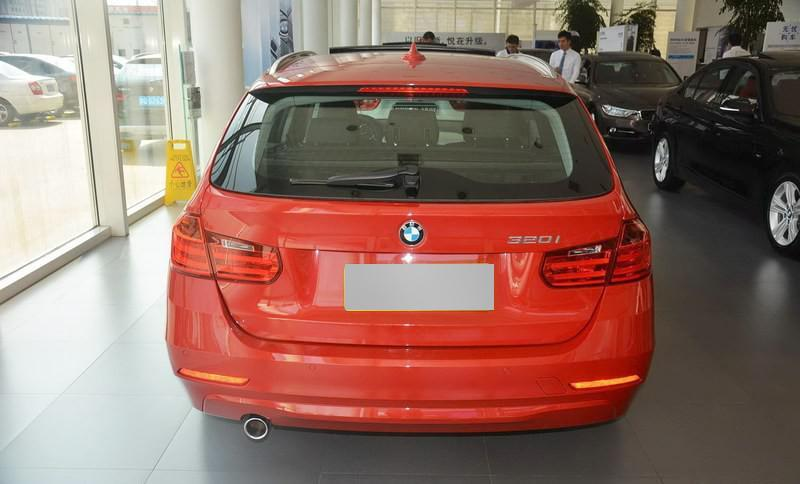Wagon: (163, 42, 657, 443)
